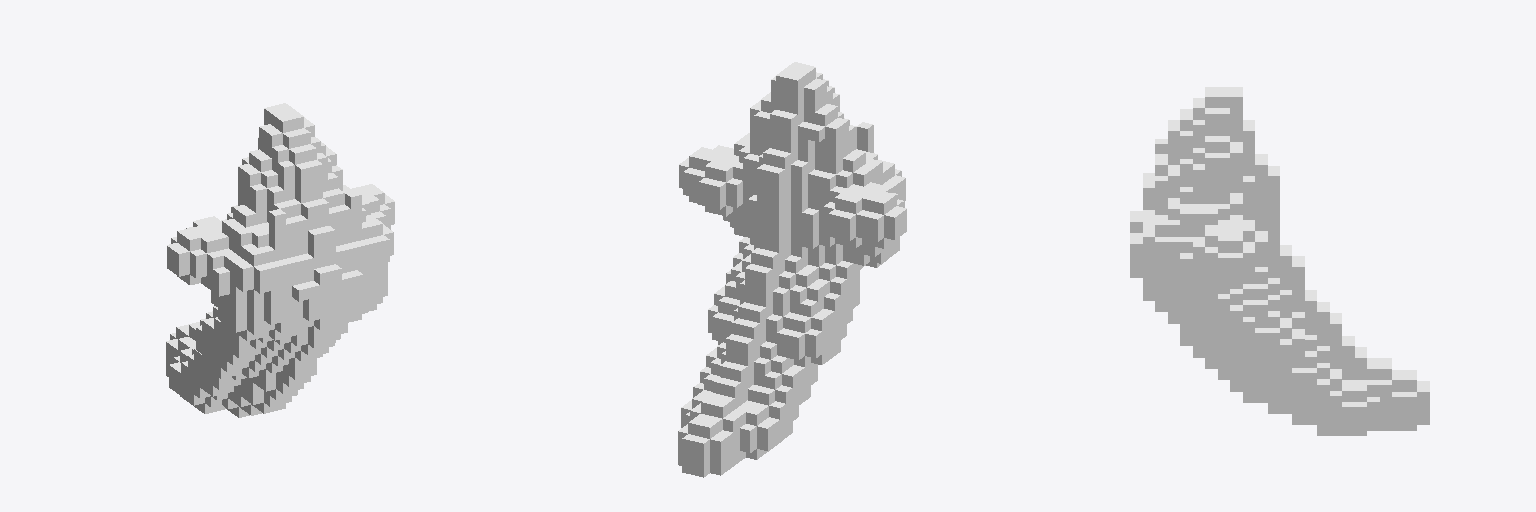
The model's file is metapod-4.obj.
The picture shows the model from 3 angles: view 1: azimuth 30°, elevation 25°; view 2: azimuth 150°, elevation 25°; view 3: azimuth 270°, elevation 25°; orthographic projection.
Visible parts, largest first — view 1: object 1; view 2: object 1; view 3: object 1.
Boxes of the visible parts, x1=… form: object 1: x1=166, y1=103, x2=394, y2=417; object 1: x1=678, y1=62, x2=906, y2=477; object 1: x1=1130, y1=87, x2=1429, y2=435.
Bounding box in the file's own units: 2 × 2.9 × 2.4.